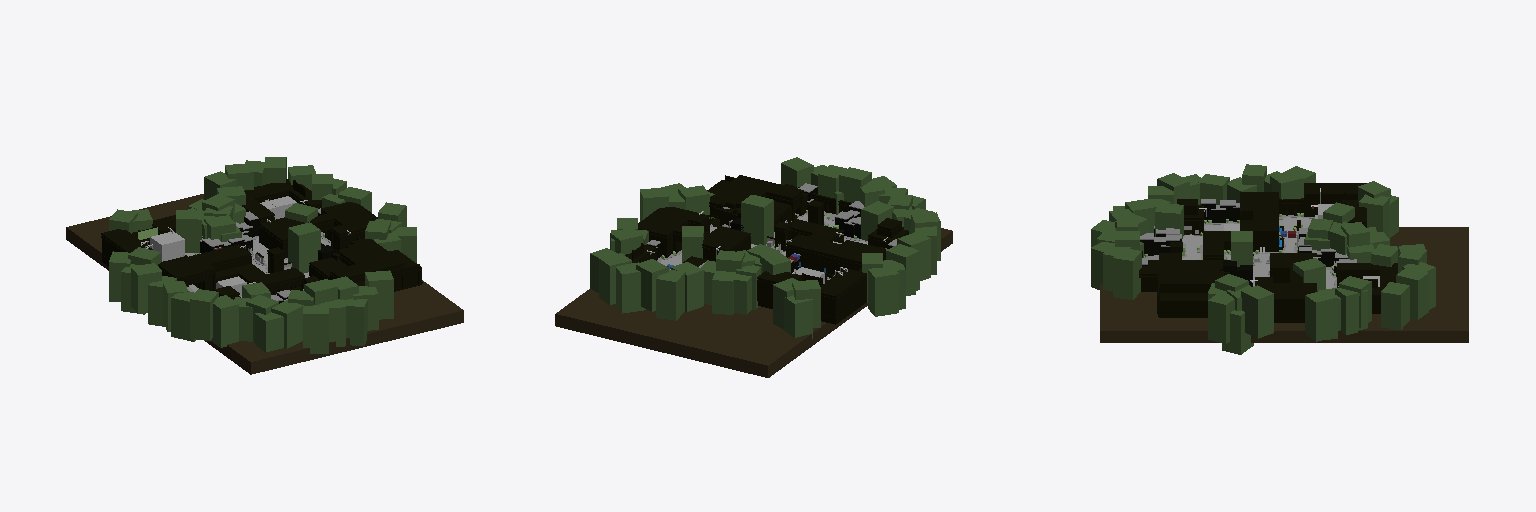
File: Undergrowth.obj
3 renders of one model, left to right at view 1: azimuth 30°, elevation 25°; view 2: azimuth 150°, elevation 25°; view 3: azimuth 270°, elevation 25°, orthographic.
Bounding box in the file's own units: 811 × 188 × 953.